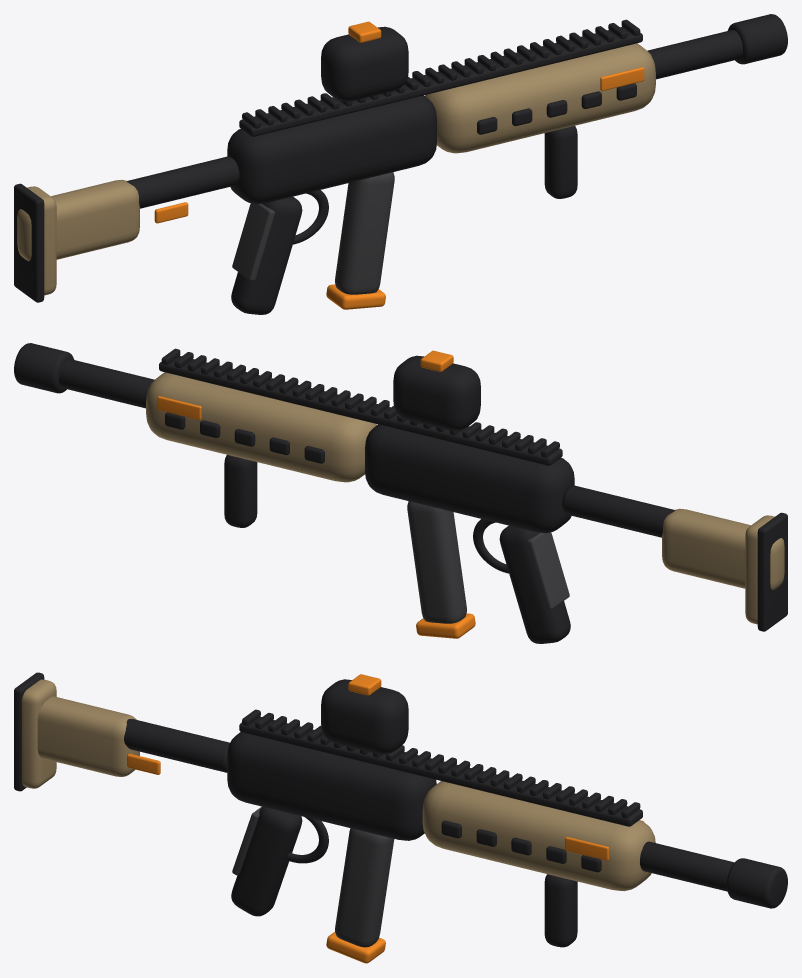
The picture shows the model from 3 angles, top to bottom: view 1: azimuth 30°, elevation 25°; view 2: azimuth 150°, elevation 25°; view 3: azimuth 330°, elevation 25°; orthographic projection.
Parts seen in each view (by area): view 1: sc7; view 2: sc7; view 3: sc7.
Part boxes in pixels (x1,y1,x2,y2): sc7: [14, 14, 787, 314]; sc7: [14, 343, 787, 643]; sc7: [14, 672, 787, 963].
Bounding box in the file's own units: 0.6948 × 0.2414 × 0.062.
